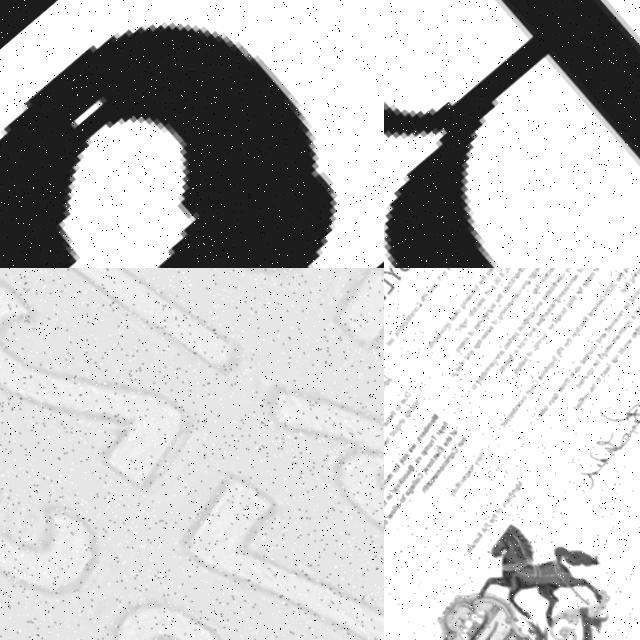0: (55, 268, 354, 338), (488, 274, 499, 285), (491, 271, 501, 282), (600, 284, 610, 295), (606, 278, 614, 287)
1: (0, 268, 264, 417)
2: (0, 268, 214, 536), (602, 280, 613, 291), (607, 275, 615, 285)
3: (0, 336, 128, 640)
5: (310, 268, 384, 511)
6: (220, 302, 384, 628)
7: (153, 422, 384, 640)
8: (78, 532, 367, 640), (494, 268, 505, 277)
B: (384, 0, 640, 268)
S: (0, 0, 384, 268)
